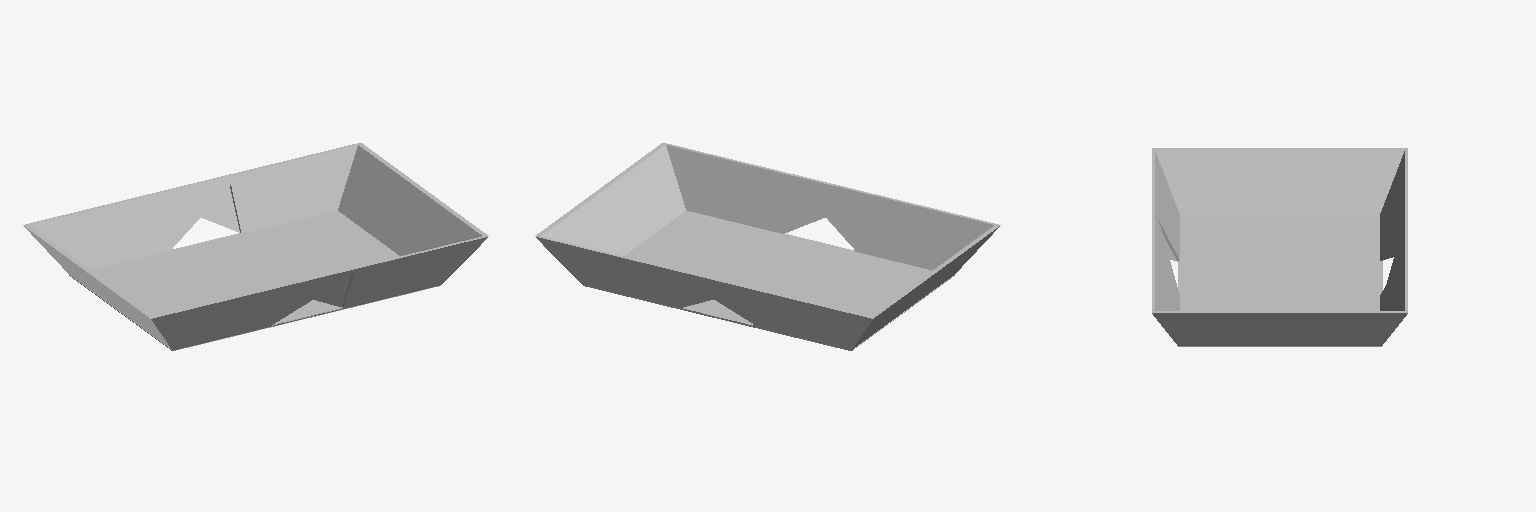
The model's file is Room13.obj.
The picture shows the model from 3 angles: view 1: azimuth 30°, elevation 25°; view 2: azimuth 150°, elevation 25°; view 3: azimuth 270°, elevation 25°; orthographic projection.
Parts seen in each view (by area): view 1: Room13, Piso1; view 2: Room13, Piso1; view 3: Room13, Piso1.
Part boxes in pixels (bbox=[...]): Room13: bbox=[23, 143, 488, 350]; Piso1: bbox=[69, 211, 399, 349]; Room13: bbox=[535, 143, 1000, 350]; Piso1: bbox=[582, 211, 954, 350]; Room13: bbox=[1152, 148, 1407, 346]; Piso1: bbox=[1178, 215, 1381, 310].
Size of the model in its own units: 35 by 5 by 23.